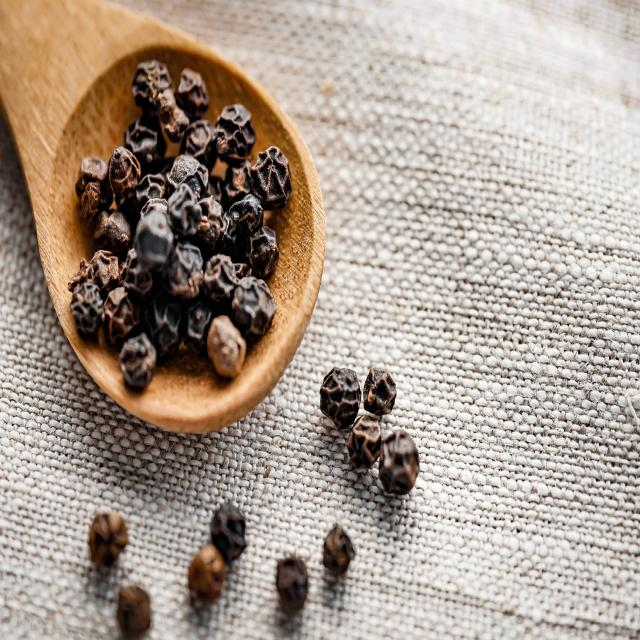Black pepper: (47, 35, 304, 387), (79, 478, 357, 640), (319, 362, 427, 499)
